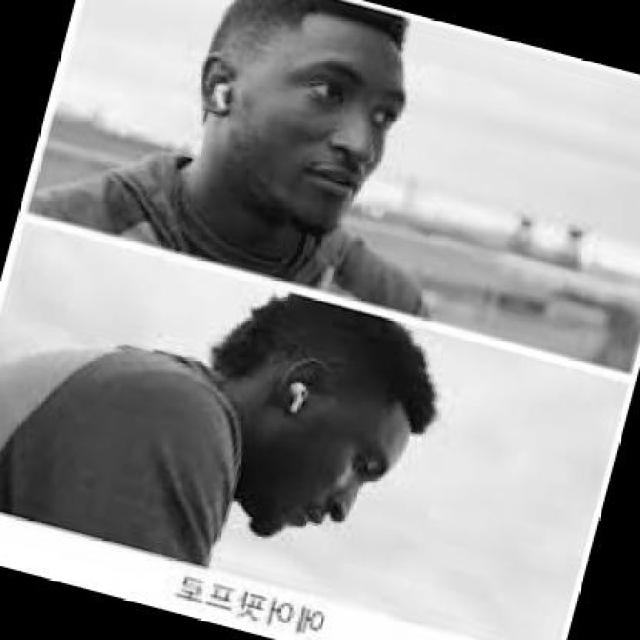earphone: (204, 72, 246, 144), (276, 366, 324, 421)
